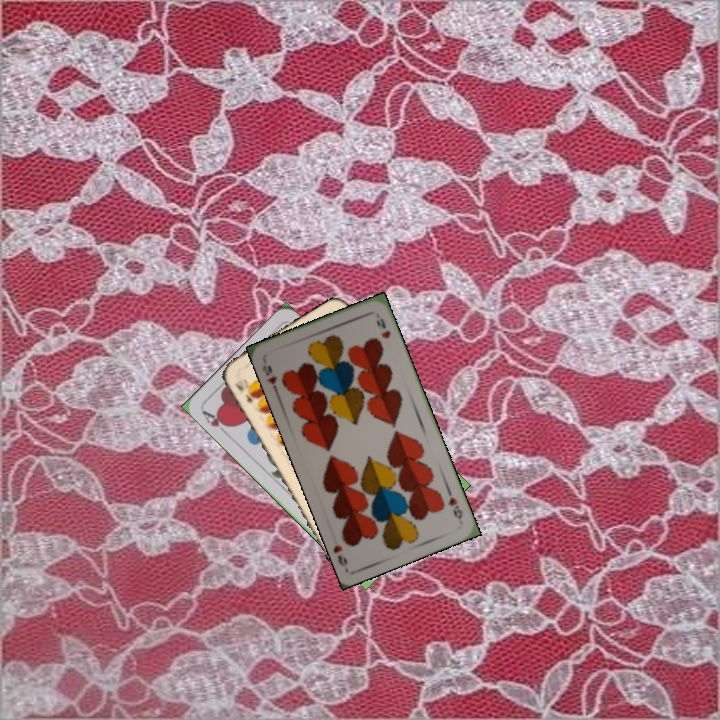E10: (231, 375, 257, 405)
H9: (258, 360, 281, 395), (443, 493, 466, 525)
HA: (198, 406, 233, 438)
